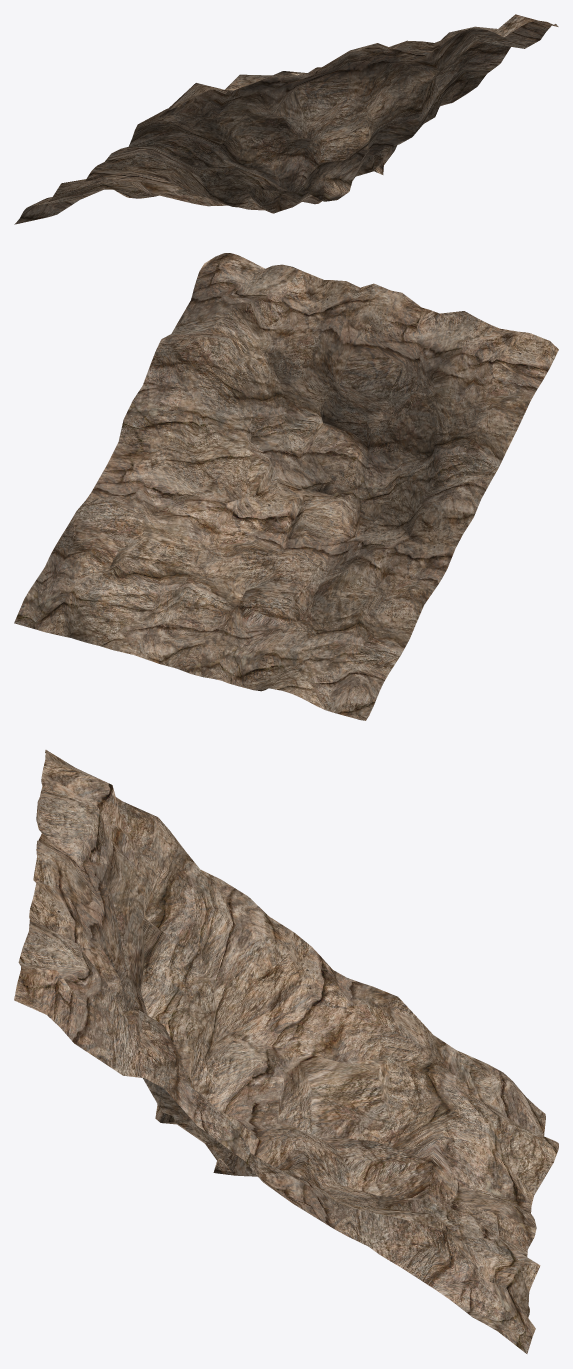
Rendered from CaveCollapsedSheet_LOD2.fbx.
3 renders of one model, top to bottom at view 1: azimuth 30°, elevation 25°; view 2: azimuth 150°, elevation 25°; view 3: azimuth 270°, elevation 25°, orthographic. The views are drawn at different scales.
Visible parts, largest first — view 1: CaveCollapsedSheet_LOD2; view 2: CaveCollapsedSheet_LOD2; view 3: CaveCollapsedSheet_LOD2.
Part boxes in pixels (x1,y1,x2,y2): CaveCollapsedSheet_LOD2: [14, 14, 558, 224]; CaveCollapsedSheet_LOD2: [14, 253, 558, 720]; CaveCollapsedSheet_LOD2: [14, 750, 558, 1353].
Bounding box in the file's own units: 524 × 353 × 463.
